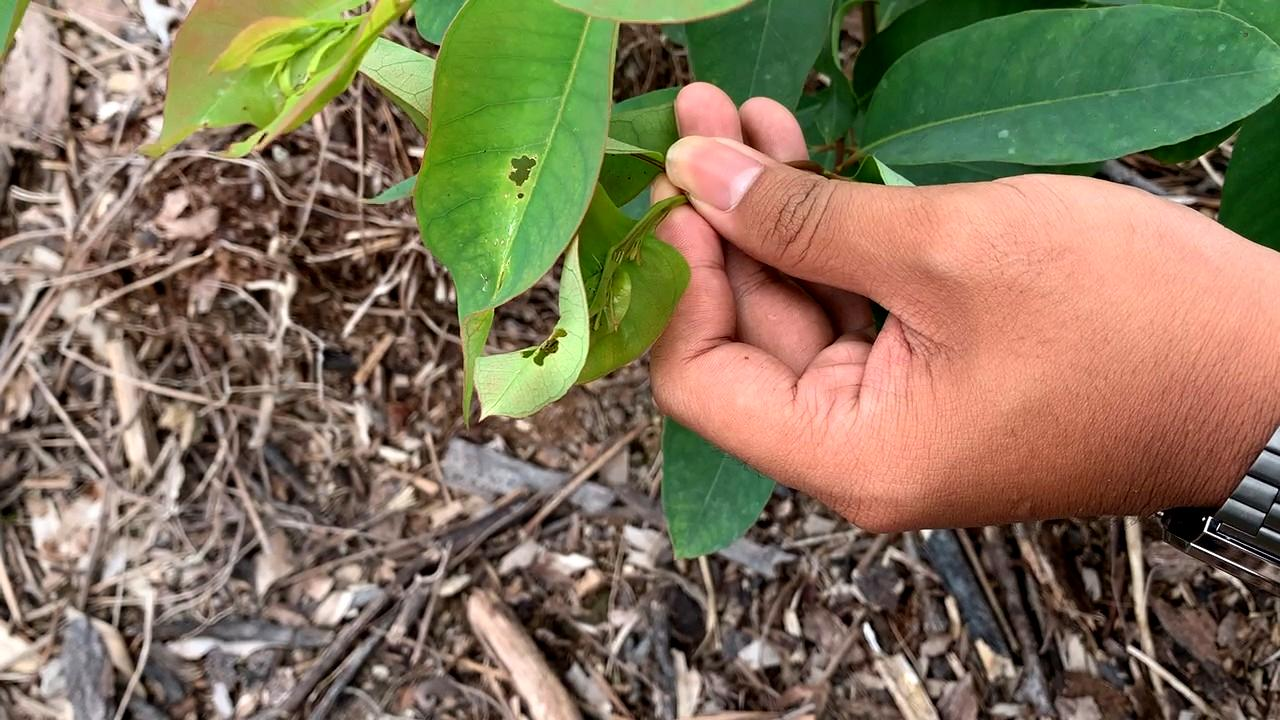Leaf Roller - Leaf: (580, 217, 658, 355)
